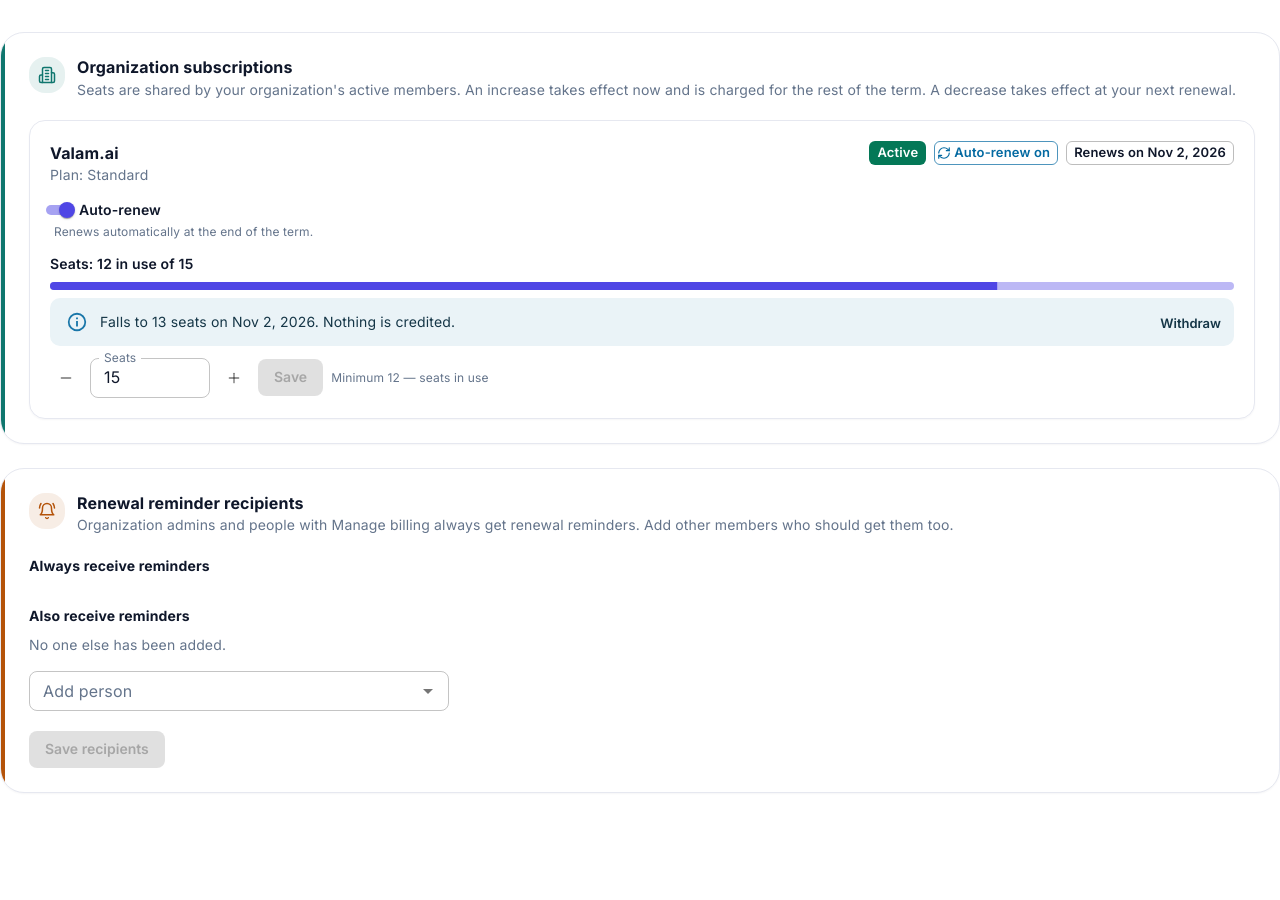
Test: OrganizationSubscriptionsSection › shows a pending decrease and withdraws it by asking for the current quantity
Expected: the text "Falls to 13 seats on Nov 2, 2026. Nothing is credited." is shown, [100,312,455,330]
Click the button "Withdraw".
click(1191, 324)  # box [1155,308,1226,339]
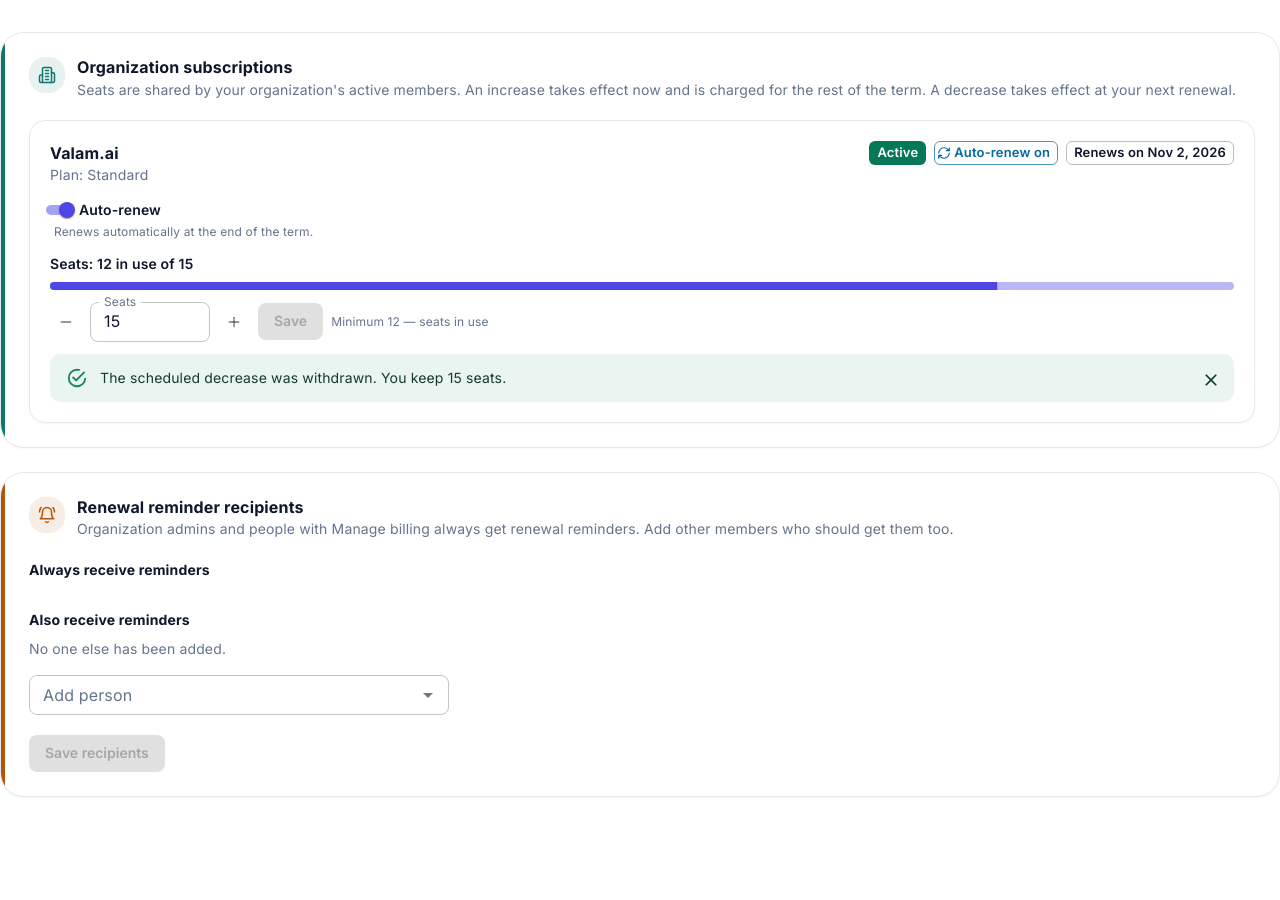
Result: the text "The scheduled decrease was withdrawn. You keep 15 seats." is shown at [100,368,506,386]
Result: the text "Falls to 13 seats" is gone
